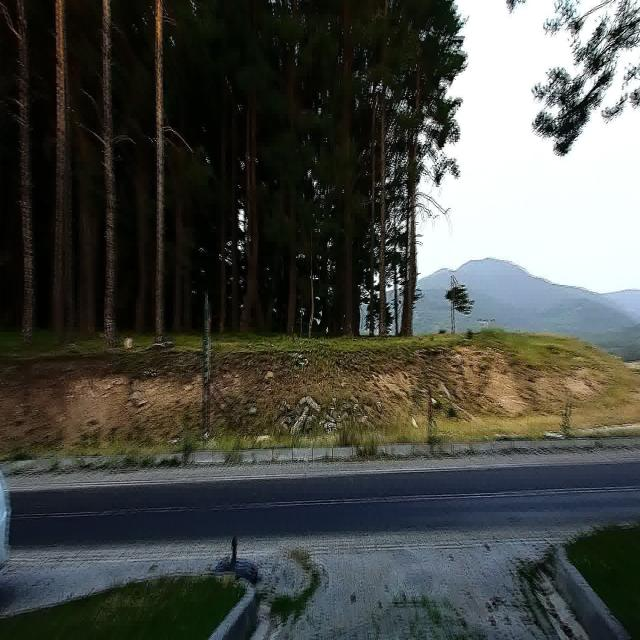Car: (0, 458, 15, 573)
